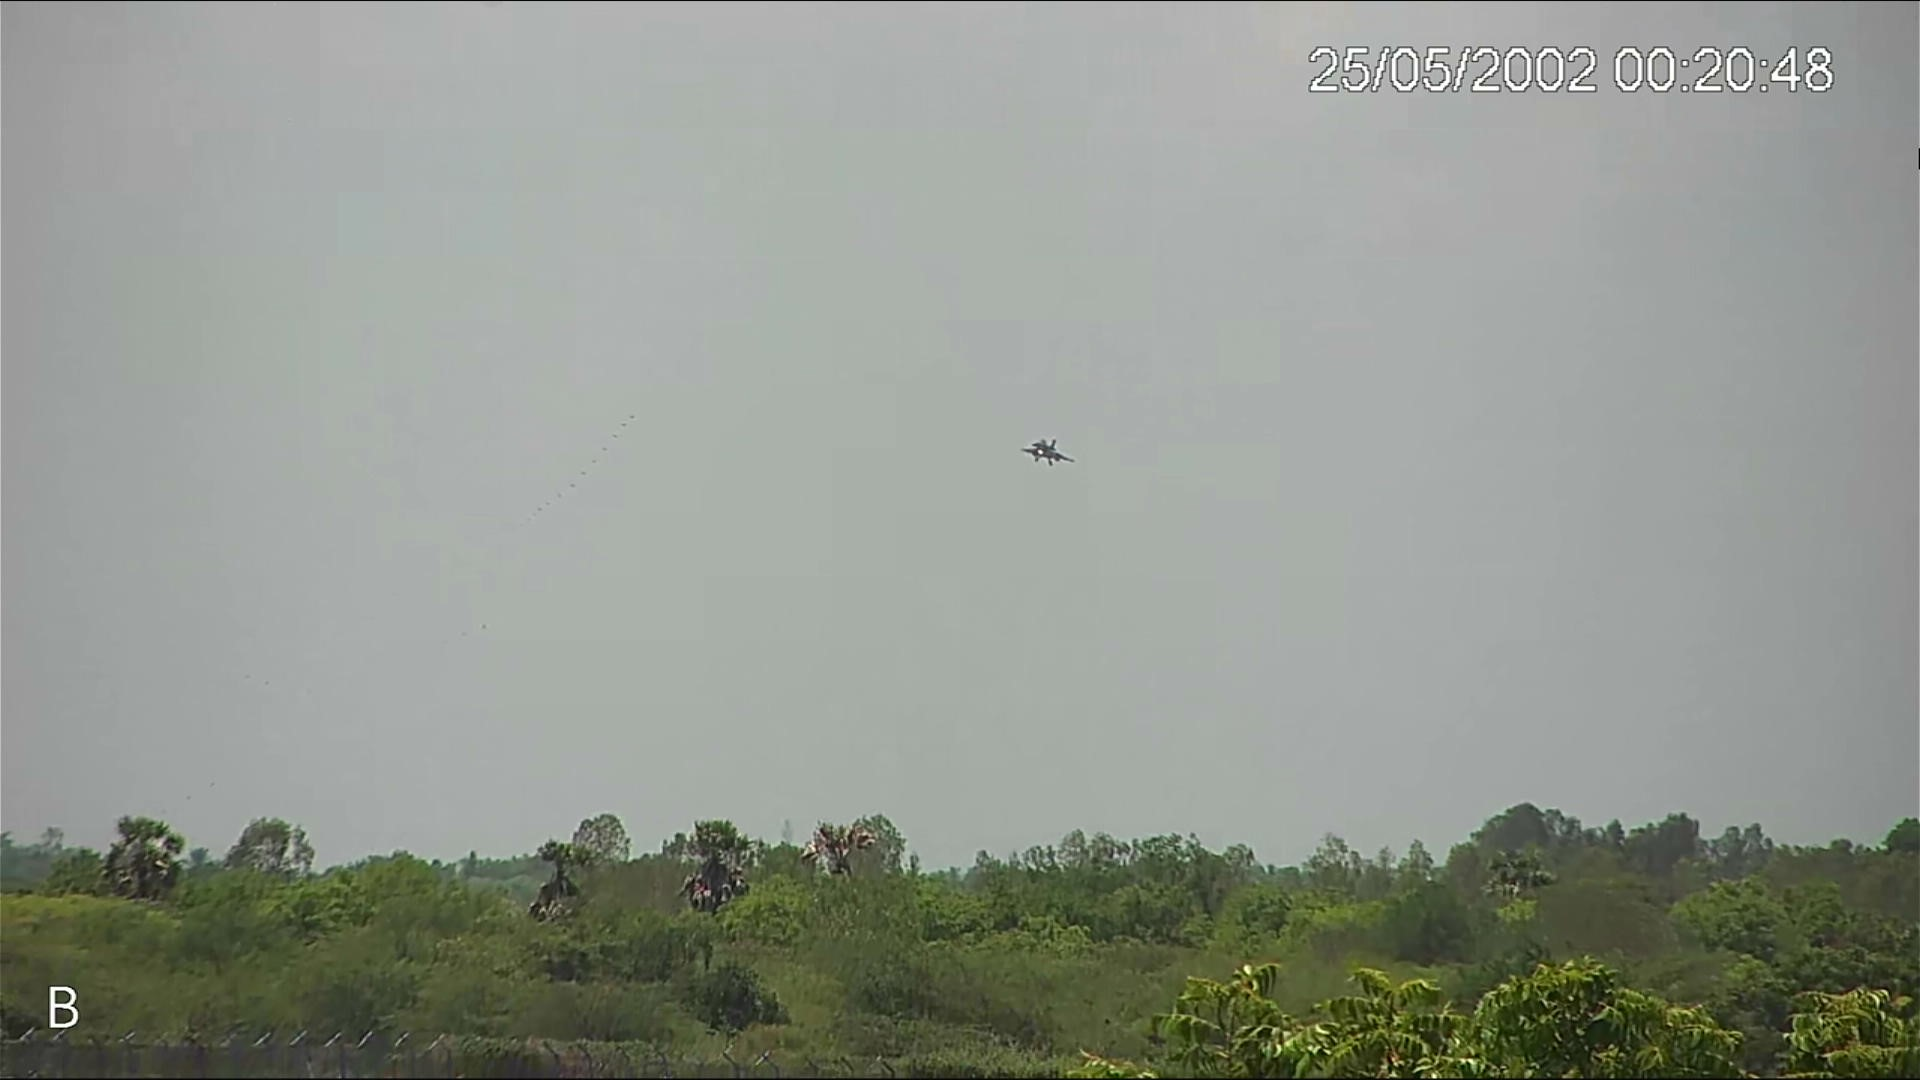SU_30: (1021, 436, 1075, 469)
